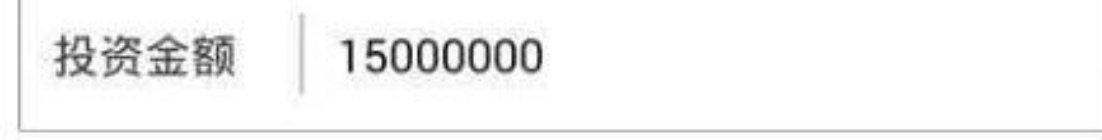EditText: (1, 1, 1101, 139)
